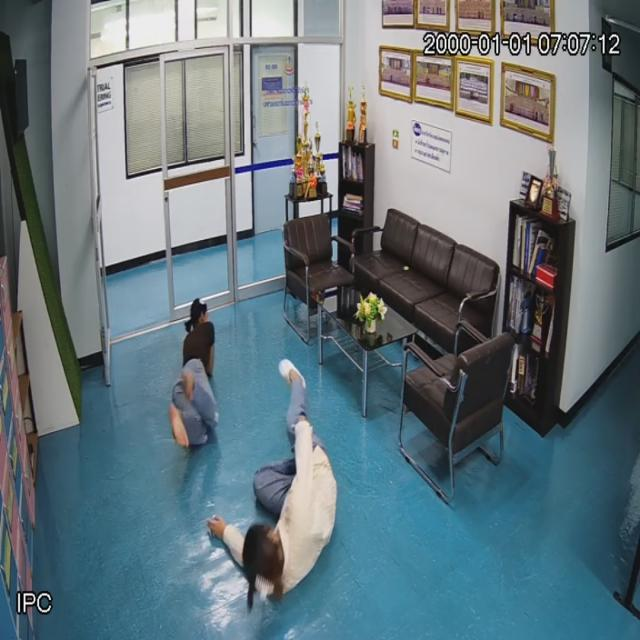fall: (239, 368, 338, 608), (168, 288, 220, 448)
